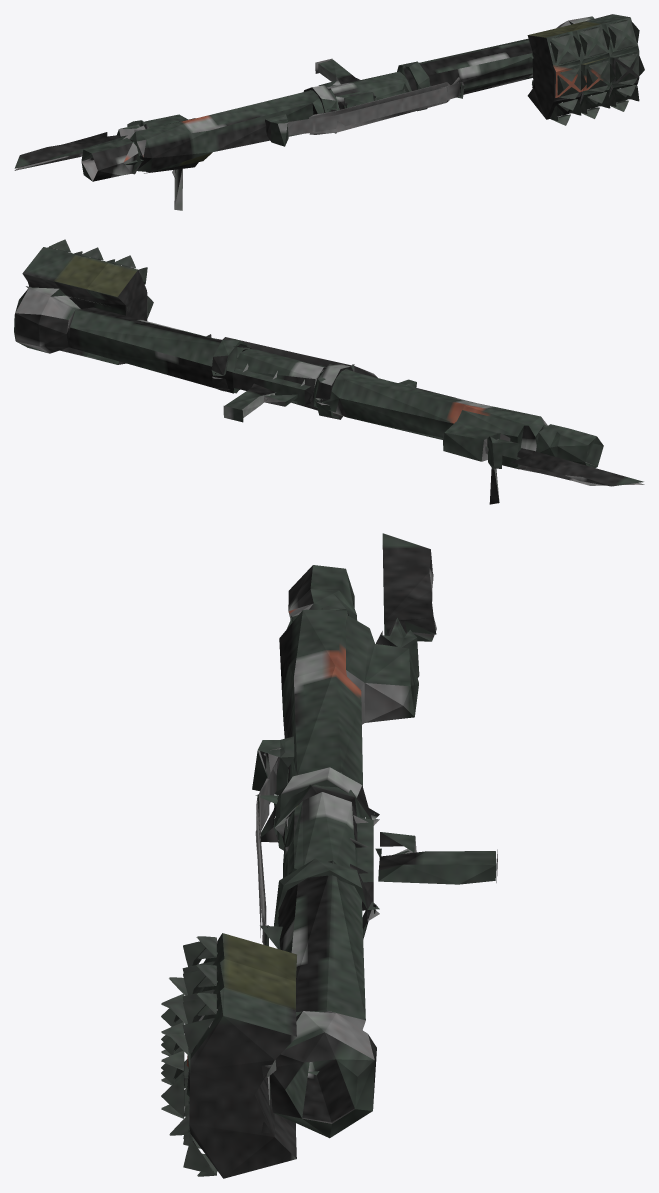
File: kalinaann1.obj
3 views of the same model, one above another, from view 1: azimuth 30°, elevation 25°; view 2: azimuth 150°, elevation 25°; view 3: azimuth 270°, elevation 25° (orthographic). The views are drawn at different scales.
Visible parts, largest first — view 1: kalinaann1; view 2: kalinaann1; view 3: kalinaann1.
Part boxes in pixels (x1=…): kalinaann1: x1=14, y1=14, x2=644, y2=210; kalinaann1: x1=14, y1=239, x2=644, y2=504; kalinaann1: x1=161, y1=533, x2=497, y2=1178.
Size of the model in its own units: 1.61 by 0.3006 by 0.4042.
